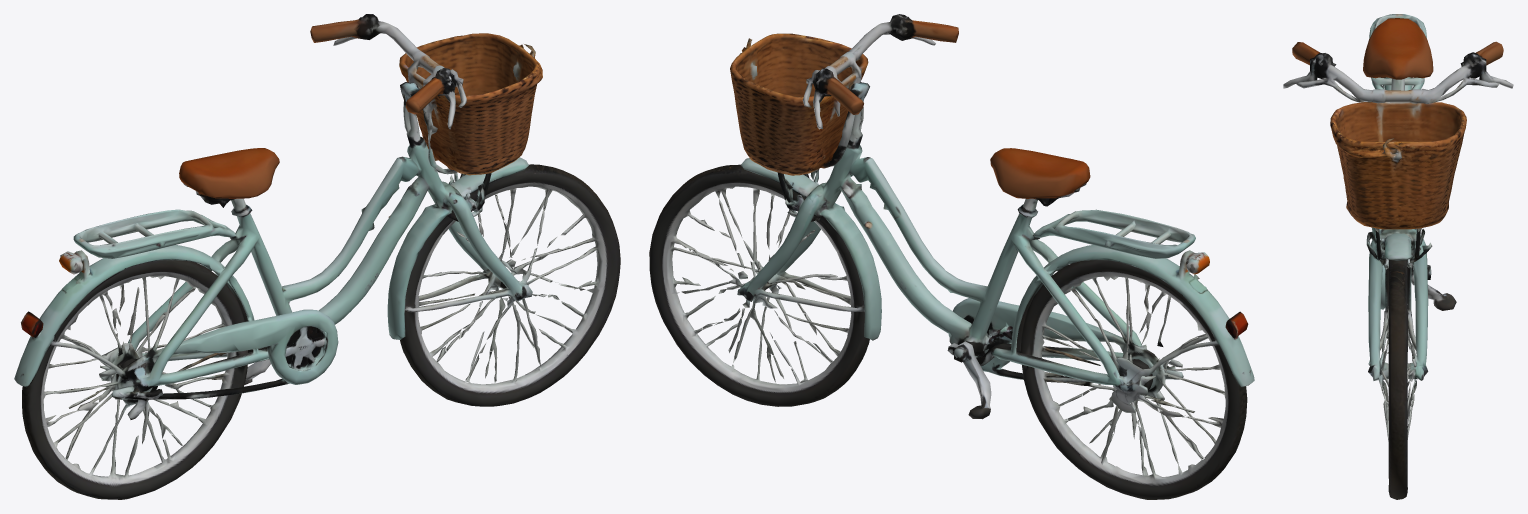
File: au_veh_bike_city.glb
3 renders of one model, left to right at view 1: azimuth 30°, elevation 25°; view 2: azimuth 150°, elevation 25°; view 3: azimuth 270°, elevation 25°, orthographic.
Visible parts, largest first — view 1: tripo_node_84425e8e-b9e7-418c-8279-3b137fa57daf; view 2: tripo_node_84425e8e-b9e7-418c-8279-3b137fa57daf; view 3: tripo_node_84425e8e-b9e7-418c-8279-3b137fa57daf.
Part boxes in pixels (box(x1,y1,x2,y2)): tripo_node_84425e8e-b9e7-418c-8279-3b137fa57daf: box(14, 14, 620, 499); tripo_node_84425e8e-b9e7-418c-8279-3b137fa57daf: box(649, 14, 1254, 499); tripo_node_84425e8e-b9e7-418c-8279-3b137fa57daf: box(1283, 14, 1513, 499).
Size of the model in its own units: 1.95 by 1.2 by 0.646.
Materials: 1 (1 with a texture image).
